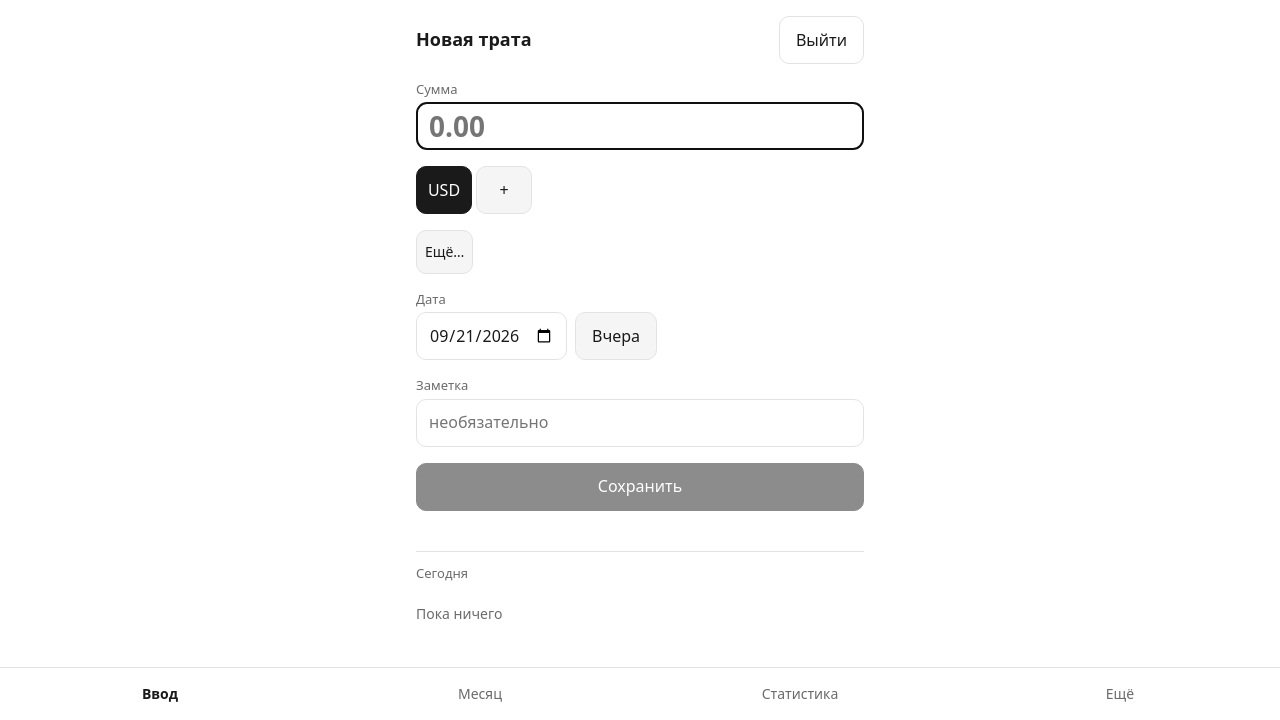
Scenario: EntryScreen › показывает ошибку, если запись не удалось даже поставить в очередь
Type "7" into the field labelled "Сумма".
click(640, 126); type("7")  # box [416,102,864,150]
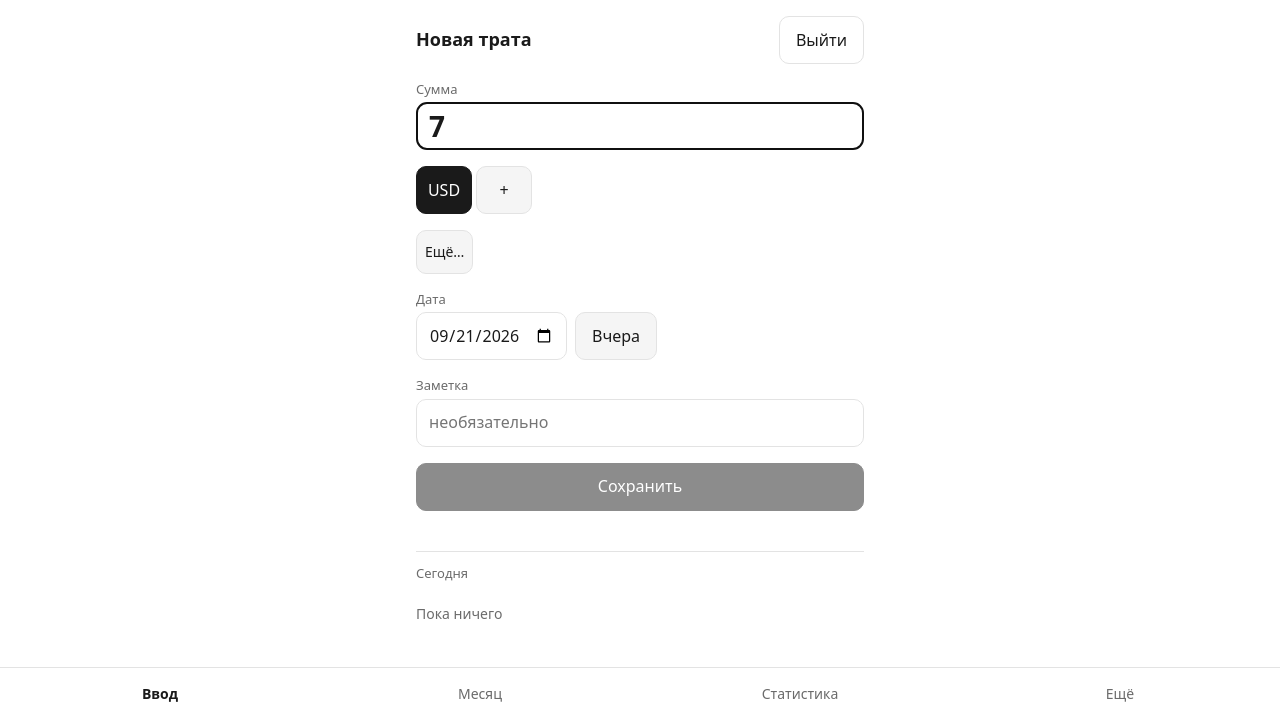
Click the button with aria-label "Все категории".
click(445, 252)  # box [416,230,474,274]
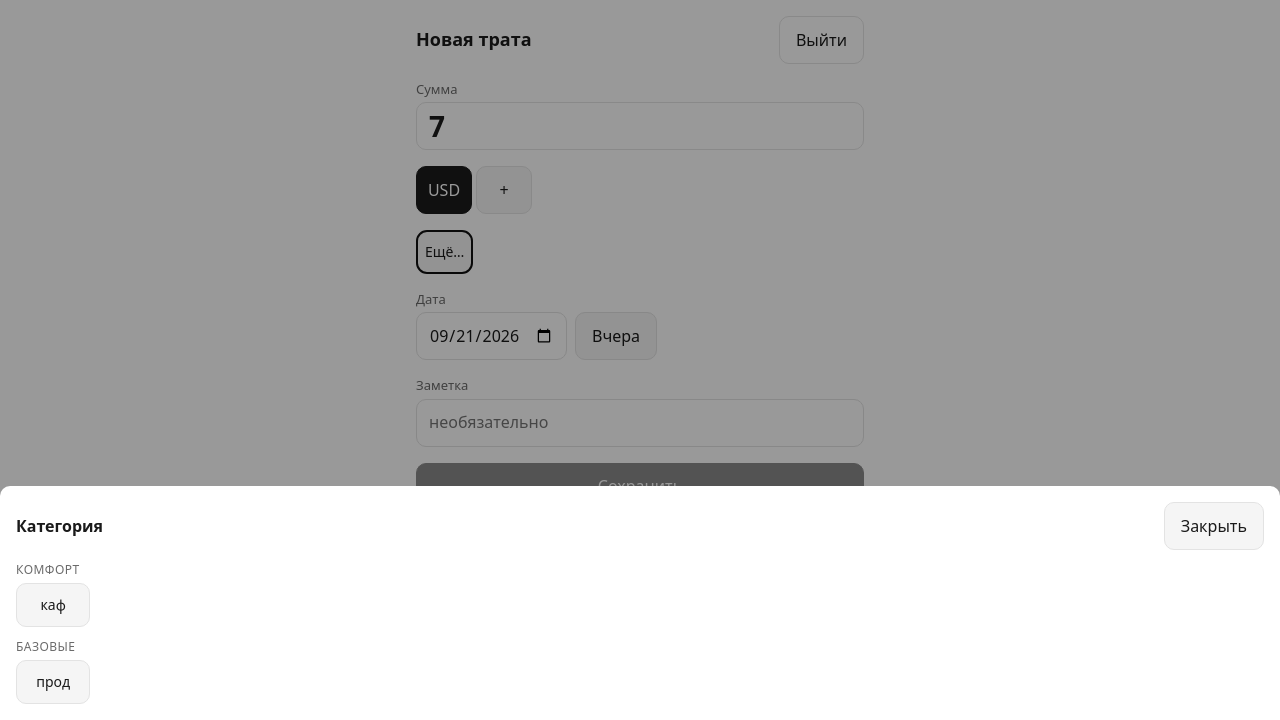
Click the radio button labelled "каф".
click(53, 605)  # box [16,583,90,627]
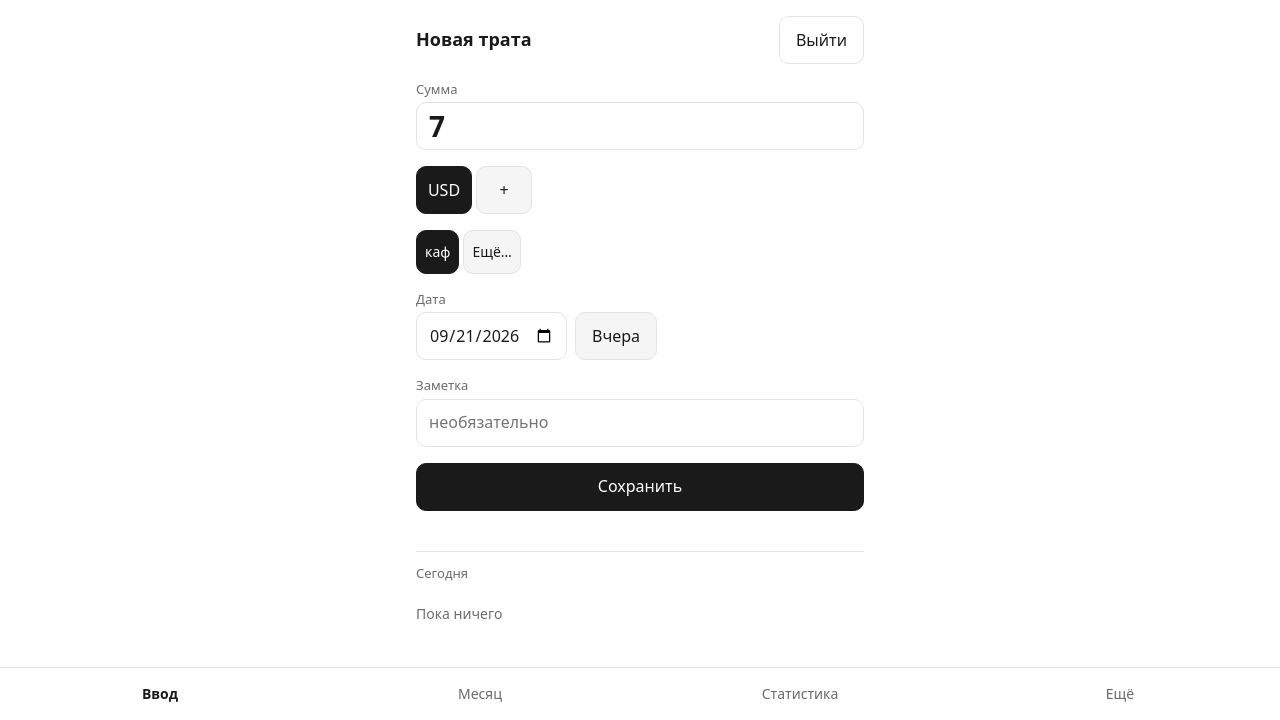
Click the button "Сохранить".
click(640, 487)  # box [416,463,864,511]
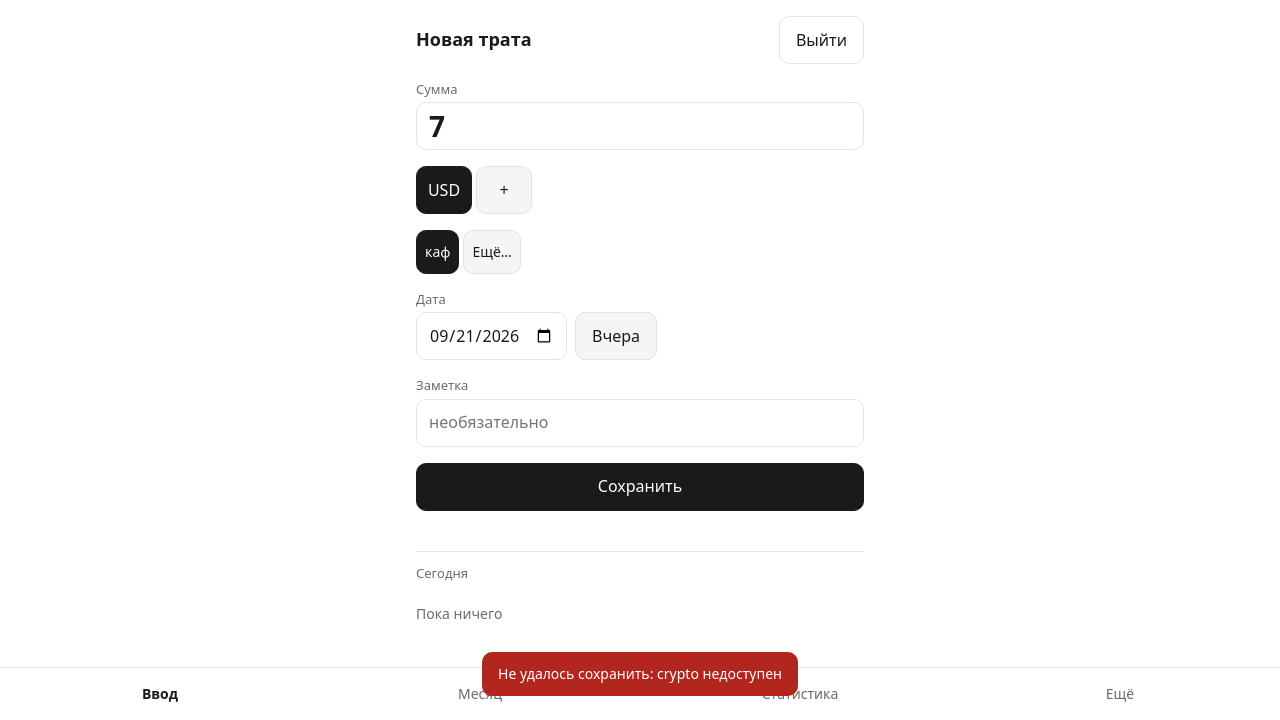
Now the message shows "Не удалось сохранить", box [498,664,782,683]
